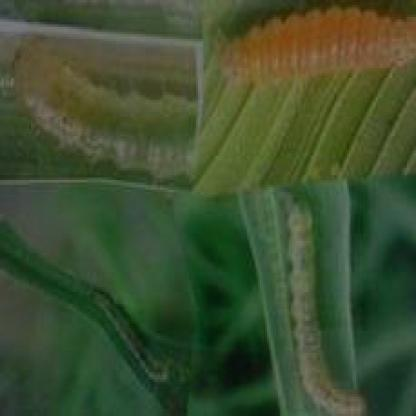leaf-folder: (13, 36, 196, 176), (264, 195, 373, 416), (216, 0, 416, 104), (78, 270, 182, 400)
